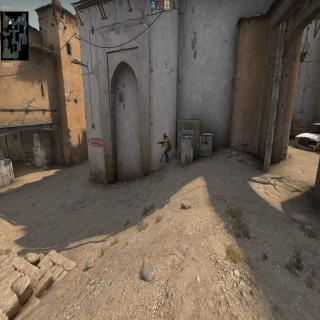T-Head: (163, 132, 167, 140)
